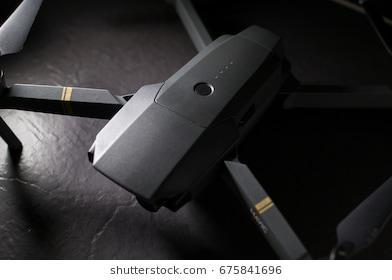drone: (0, 0, 390, 260)
